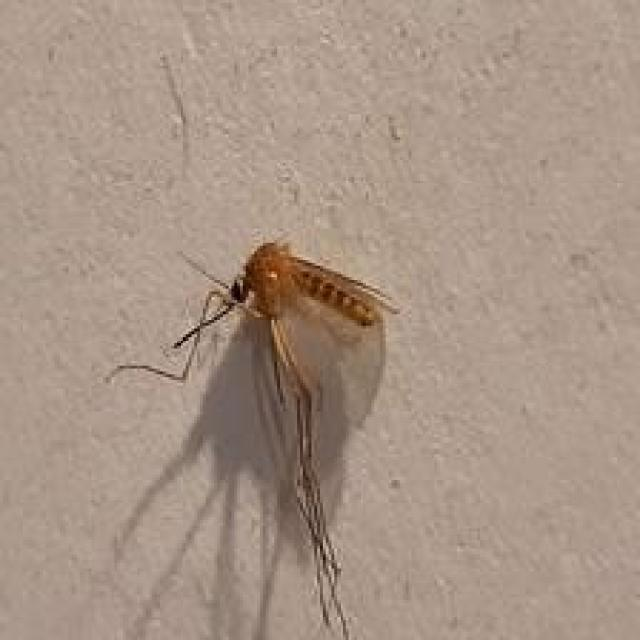Culex: (105, 237, 402, 640)
